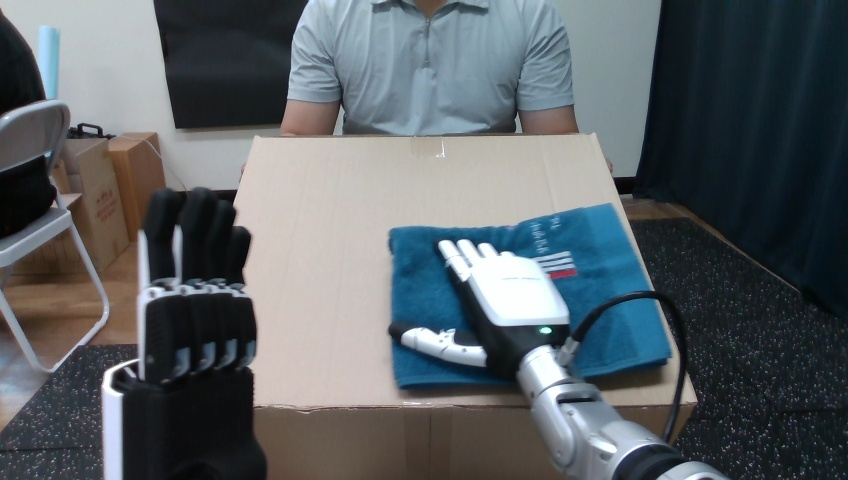left robot hand: (388, 239, 726, 479), (102, 188, 266, 478), (569, 298, 680, 439)
